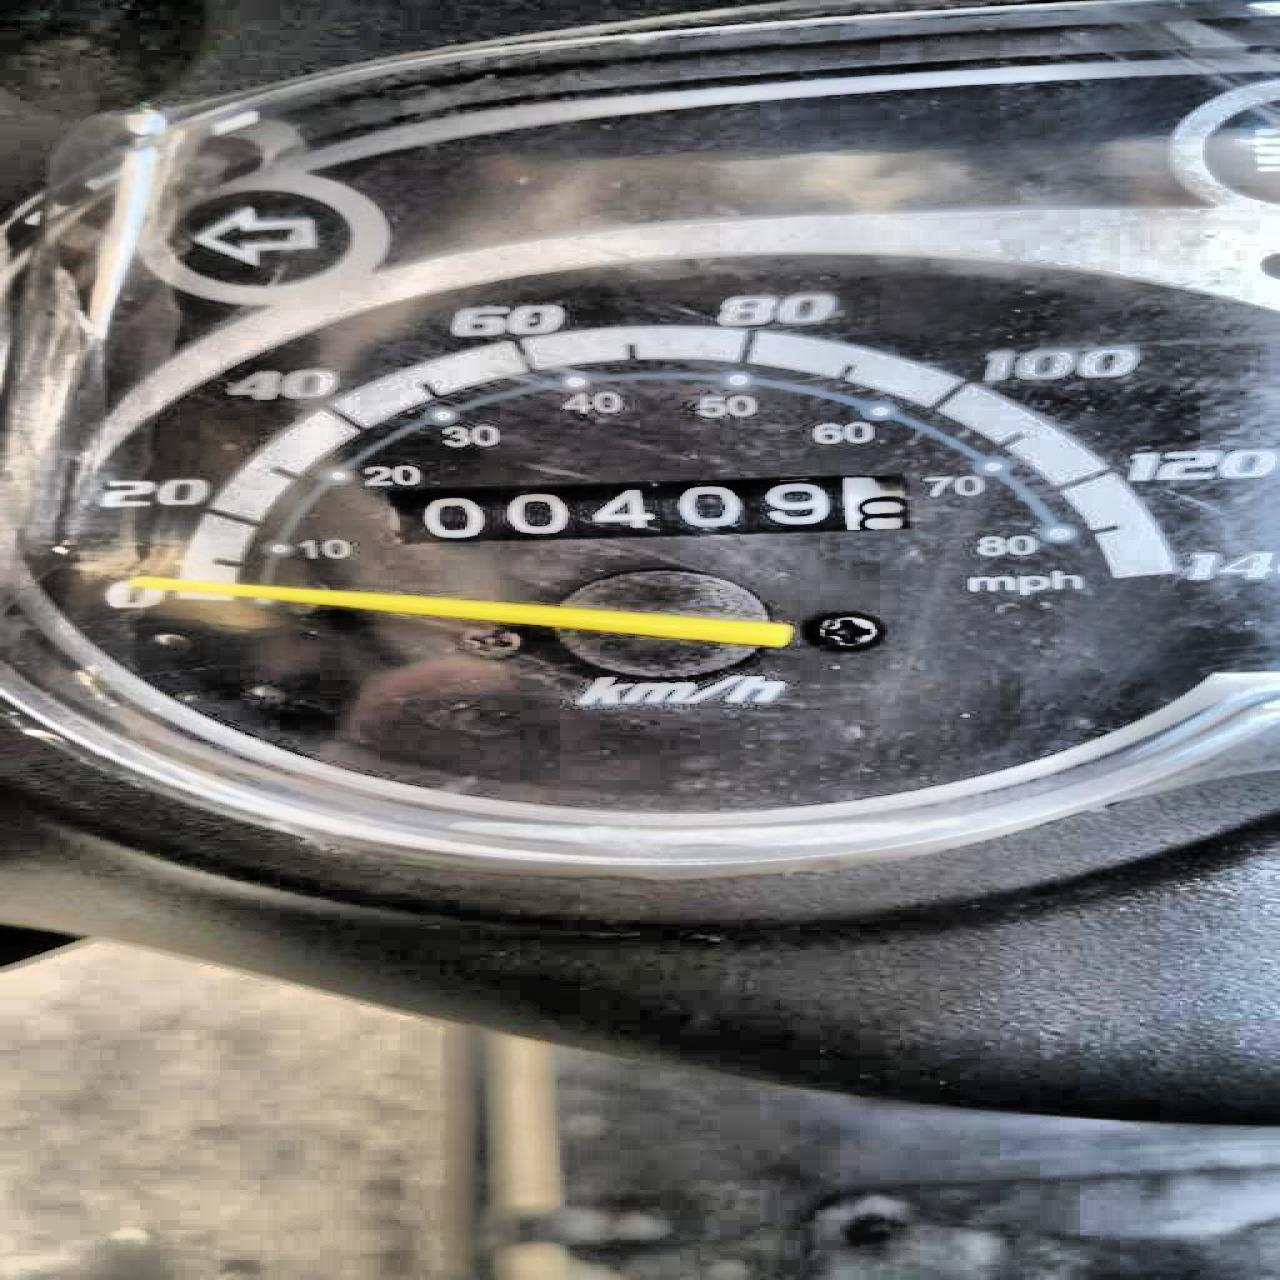0: (415, 493, 485, 540), (669, 483, 742, 527), (501, 489, 570, 535), (390, 469, 420, 486)
2: (380, 469, 390, 485)
4: (585, 485, 655, 530)
8: (847, 493, 914, 531)
9: (760, 481, 830, 526)
odometer: (380, 469, 920, 545)
